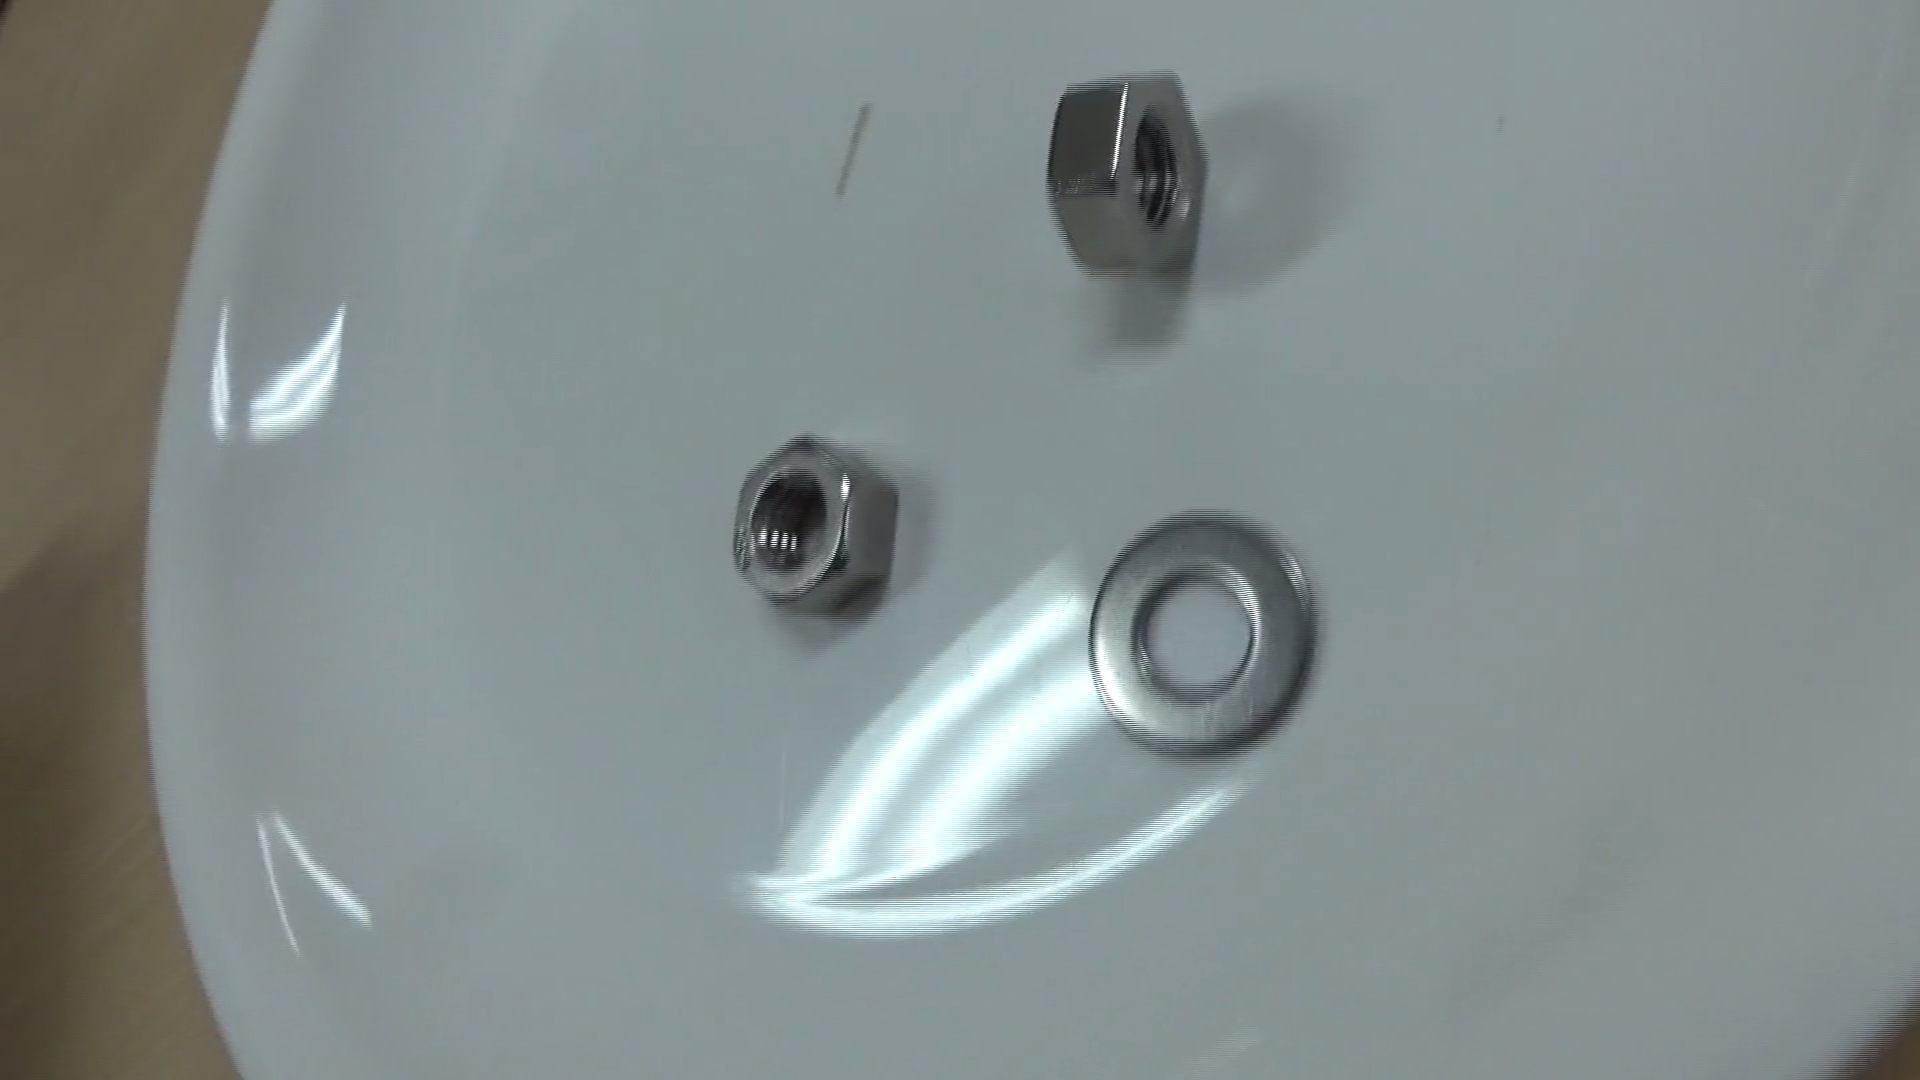nut: (1013, 59, 1240, 298), (708, 419, 919, 647)
washer: (1065, 495, 1335, 777)
